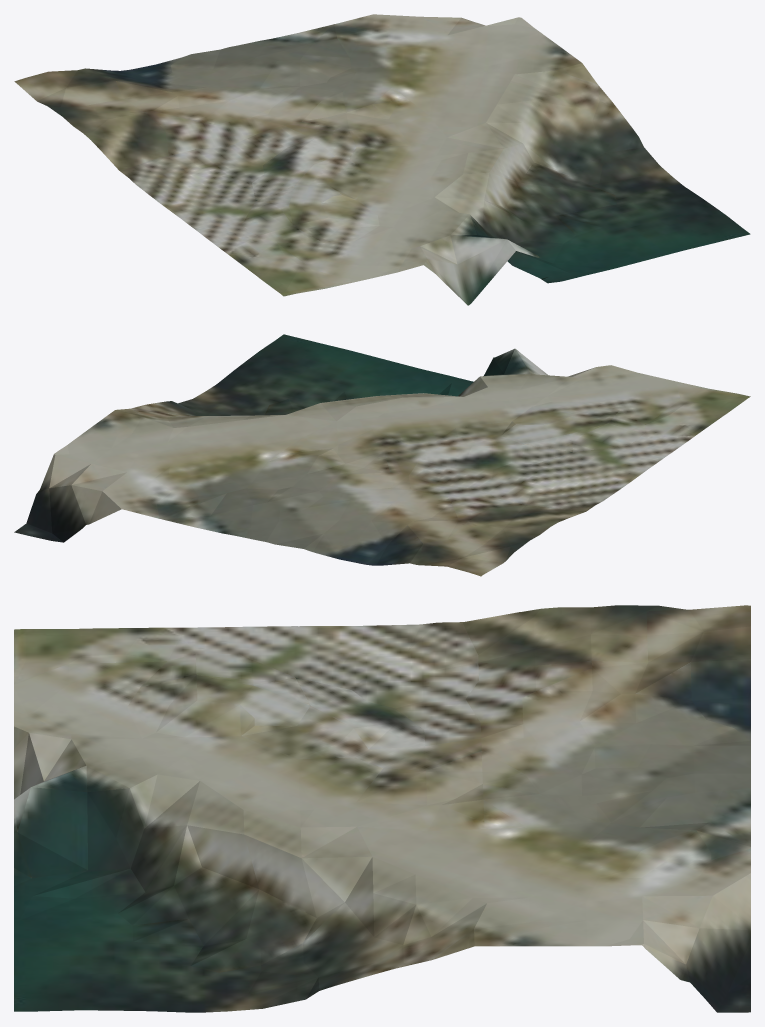
3 renders of one model, top to bottom at view 1: azimuth 30°, elevation 25°; view 2: azimuth 150°, elevation 25°; view 3: azimuth 270°, elevation 25°, orthographic. The views are drawn at different scales.
Bounding box in the file's own units: 52.22 × 7.9 × 52.22.
2 materials, 2 textured.
